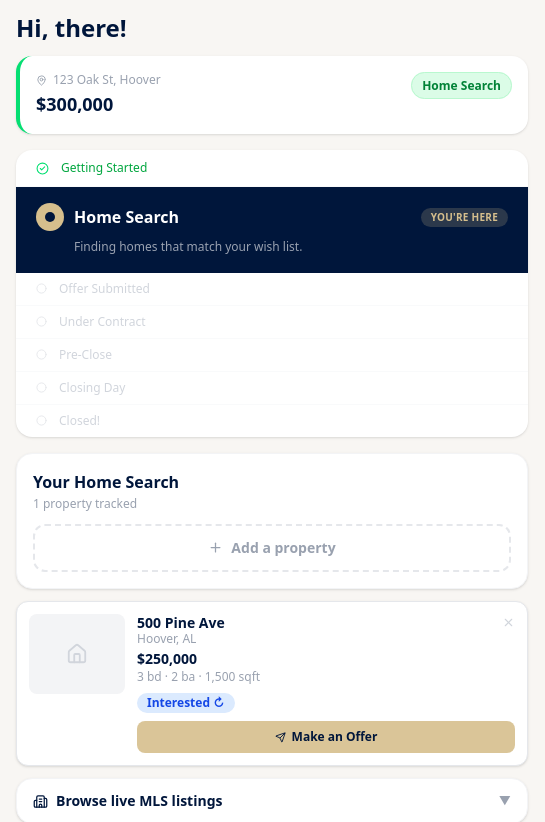
Scenario: ActiveSearchCard — remove property (#168) › shows the remove button on buyer-added properties and surfaces failures
Click the button named "remove property": (508,622) [502,616,515,628]
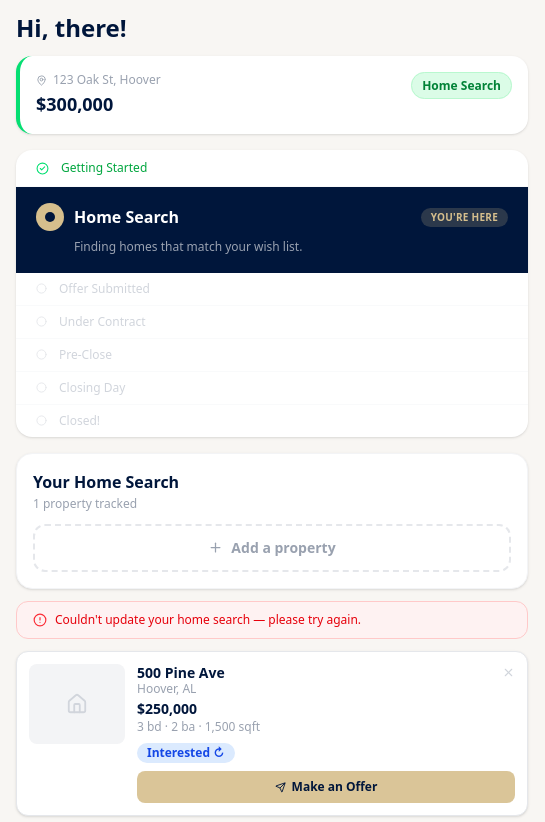
Result: the text "Couldn't update your home search — please try again." is shown at [55,612,361,628]
